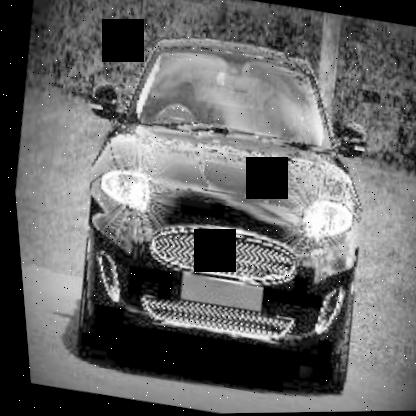not_emergency: (22, 0, 415, 407)
